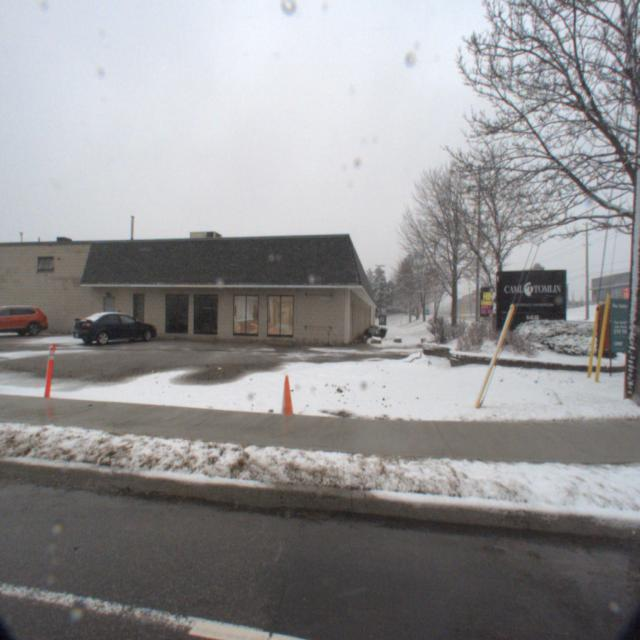Car: (64, 310, 160, 349)
